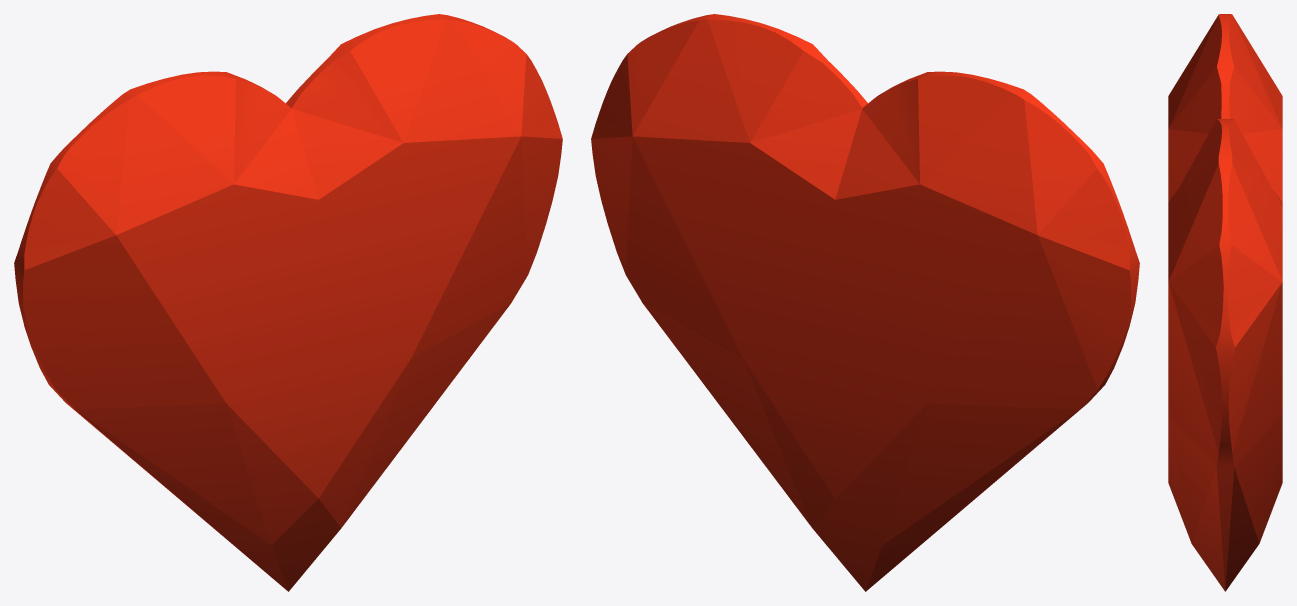
The model's file is Heart.fbx.
3 renders of one model, left to right at view 1: azimuth 30°, elevation 25°; view 2: azimuth 150°, elevation 25°; view 3: azimuth 270°, elevation 25°, orthographic. The views are drawn at different scales.
Parts seen in each view (by area): view 1: xxx; view 2: xxx; view 3: xxx.
Part boxes in pixels (left/top/right/bottom): xxx: left=14, top=14, right=562, bottom=591; xxx: left=591, top=14, right=1139, bottom=591; xxx: left=1168, top=14, right=1282, bottom=591.
Bounding box in the file's own units: 131 × 126 × 25.53.
1 material, 1 textured.
